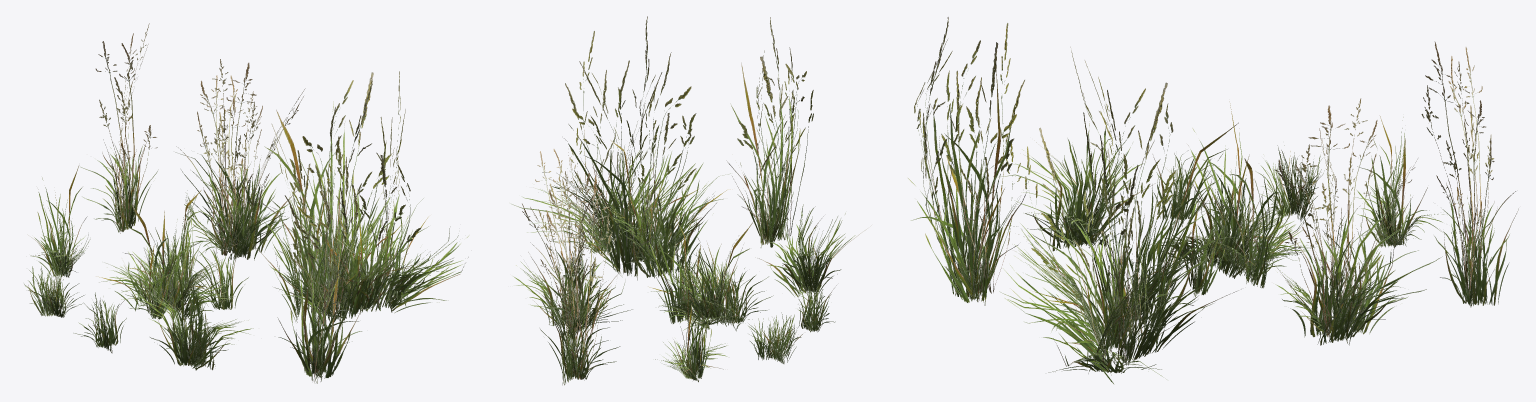
Rendered from all Embed.fbx.
3 renders of one model, left to right at view 1: azimuth 30°, elevation 25°; view 2: azimuth 150°, elevation 25°; view 3: azimuth 270°, elevation 25°, orthographic. The views are drawn at different scales.
Visible parts, largest first — view 1: tall_bush_1, tall_bush_3, Medium_bush_1, tall_bush_2, tall_bush_4, Medium_bush_2, Medium_bush_3, Small_bush_1, Small_bush_2; view 2: tall_bush_1, tall_bush_2, Medium_bush_1, tall_bush_3, tall_bush_4, Medium_bush_2, Medium_bush_3, Small_bush_1, Small_bush_2; view 3: tall_bush_1, tall_bush_2, tall_bush_3, Medium_bush_1, tall_bush_4, Medium_bush_2, Medium_bush_3, Small_bush_1, Small_bush_2.
Boxes of the visible parts, left/top/right/bottom form: tall_bush_1: left=251, top=71, right=469, bottom=322; tall_bush_3: left=175, top=59, right=305, bottom=260; Medium_bush_1: left=96, top=190, right=248, bottom=324; tall_bush_2: left=277, top=150, right=363, bottom=383; tall_bush_4: left=80, top=23, right=158, bottom=233; Medium_bush_2: left=134, top=262, right=253, bottom=370; Medium_bush_3: left=27, top=165, right=90, bottom=277; Small_bush_1: left=24, top=259, right=84, bottom=317; Small_bush_2: left=73, top=292, right=126, bottom=353; tall_bush_1: left=510, top=16, right=732, bottom=280; tall_bush_2: left=726, top=17, right=813, bottom=247; Medium_bush_1: left=648, top=221, right=773, bottom=336; tall_bush_3: left=513, top=149, right=632, bottom=335; tall_bush_4: left=535, top=176, right=620, bottom=385; Medium_bush_2: left=755, top=204, right=871, bottom=297; Medium_bush_3: left=655, top=269, right=729, bottom=382; Small_bush_1: left=748, top=312, right=802, bottom=363; Small_bush_2: left=793, top=278, right=836, bottom=332; tall_bush_1: left=999, top=47, right=1241, bottom=384; tall_bush_2: left=908, top=17, right=1026, bottom=305; tall_bush_3: left=1271, top=98, right=1442, bottom=345; Medium_bush_1: left=1149, top=101, right=1316, bottom=297; tall_bush_4: left=1421, top=41, right=1518, bottom=307; Medium_bush_2: left=998, top=121, right=1155, bottom=251; Medium_bush_3: left=1355, top=115, right=1444, bottom=247; Small_bush_1: left=1255, top=145, right=1324, bottom=223; Small_bush_2: left=1152, top=150, right=1220, bottom=226.
Size of the model in its own units: 224 by 145 by 256.
1 material, 1 textured.
